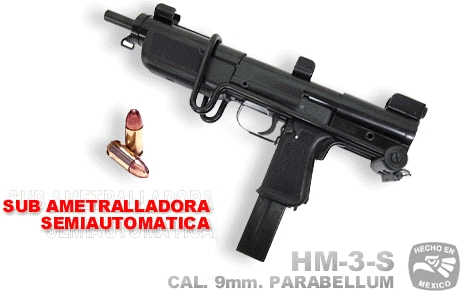rifle: (98, 5, 436, 234)
